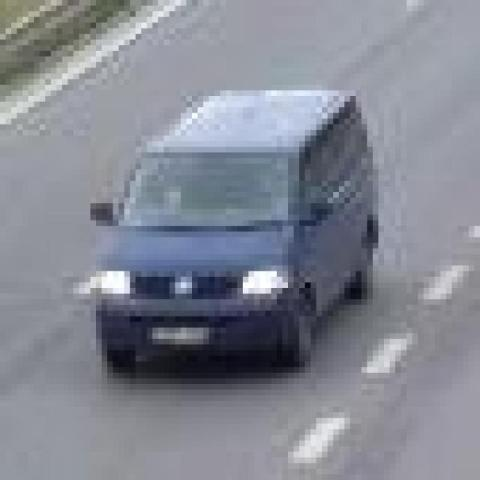van: (107, 90, 373, 384)
